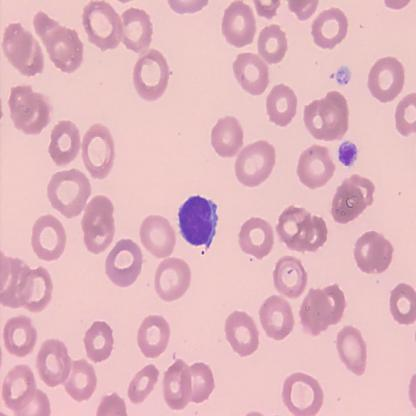Lymphocyte: (178, 193, 220, 251)
